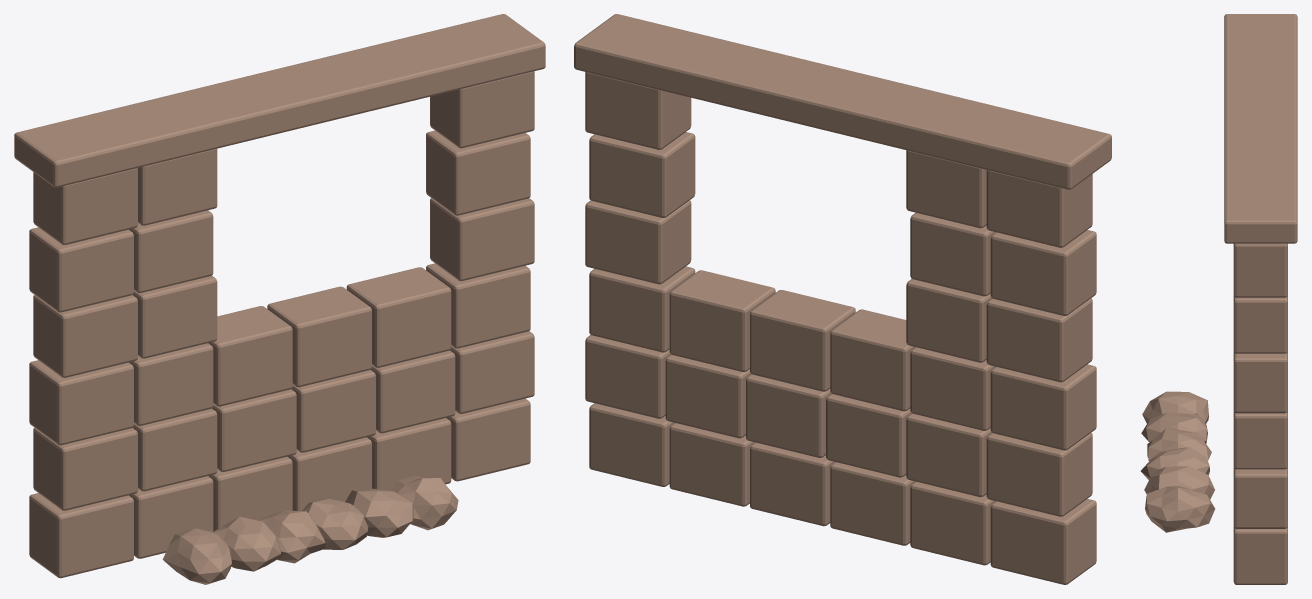
Rendered from a2_wall_broken.glb.
The picture shows the model from 3 angles, left to right: view 1: azimuth 30°, elevation 25°; view 2: azimuth 150°, elevation 25°; view 3: azimuth 270°, elevation 25°; orthographic projection. The views are drawn at different scales.
Visible parts, largest first — view 1: Body.007; view 2: Body.007; view 3: Body.007.
Boxes of the visible parts, left/top/right/bottom form: Body.007: left=14, top=14, right=545, bottom=584; Body.007: left=574, top=14, right=1111, bottom=584; Body.007: left=1140, top=14, right=1297, bottom=584.
Bounding box in the file's own units: 3.1 × 2.57 × 0.9856.
